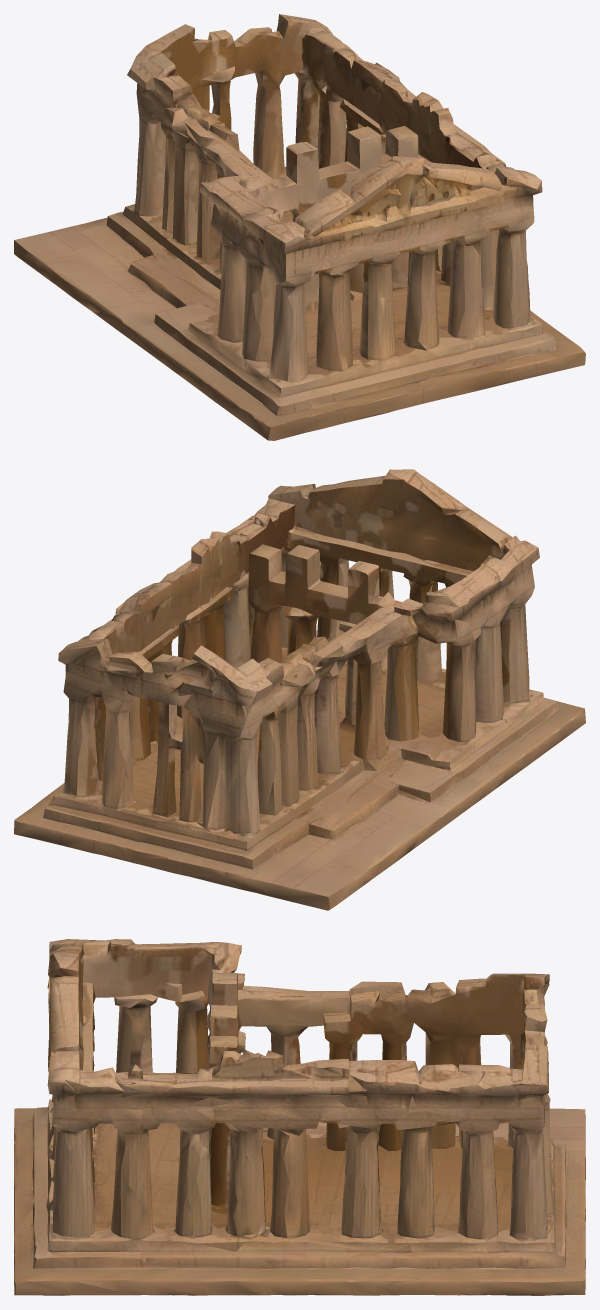
The model's file is parthenon.glb.
3 renders of one model, top to bottom at view 1: azimuth 30°, elevation 25°; view 2: azimuth 150°, elevation 25°; view 3: azimuth 270°, elevation 25°, orthographic. The views are drawn at different scales.
Visible parts, largest first — view 1: logan-textured.obj; view 2: logan-textured.obj; view 3: logan-textured.obj.
Boxes of the visible parts, <box> form: logan-textured.obj: <box>14,14,585,440</box>; logan-textured.obj: <box>14,469,585,910</box>; logan-textured.obj: <box>14,939,585,1295</box>.
Bounding box in the file's own units: 0.7152 × 0.492 × 1.
Materials: 1 (1 with a texture image).
